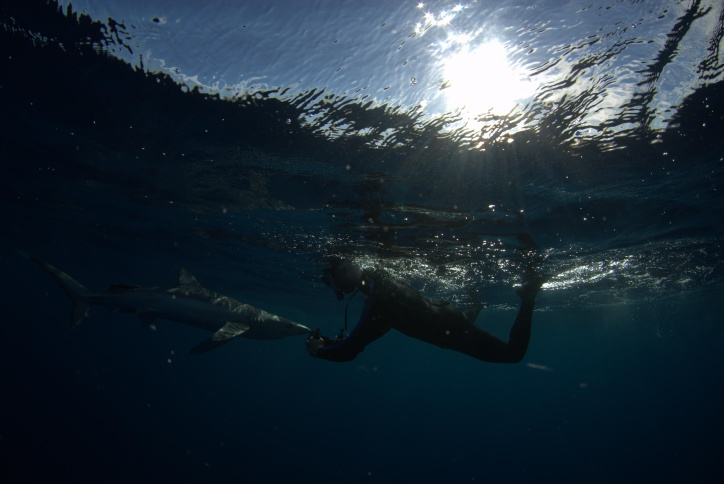Azul: (12, 236, 339, 379), (190, 228, 384, 371)
